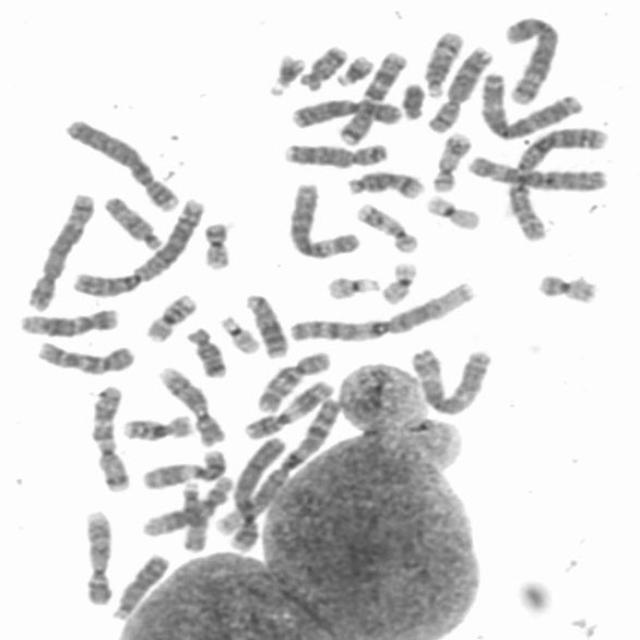A1: (221, 392, 345, 549), (285, 279, 477, 345)
A2: (66, 193, 206, 298), (504, 122, 610, 242)
A3: (474, 69, 585, 141), (407, 343, 494, 416)
B4: (58, 113, 183, 214), (220, 432, 288, 548)
B5: (24, 188, 96, 312), (502, 12, 560, 106)
C10: (252, 347, 332, 415), (31, 337, 138, 377)
C11: (242, 378, 336, 440), (137, 444, 228, 489)
C12: (136, 472, 236, 538), (13, 304, 122, 338)
C6: (284, 179, 361, 258), (463, 152, 611, 193)
C7: (334, 47, 410, 146), (86, 382, 131, 493)
C8: (422, 40, 494, 134), (280, 138, 391, 168)
C9: (154, 362, 227, 446), (78, 506, 115, 607)
D13: (108, 551, 170, 622), (240, 289, 290, 359)
D14: (420, 27, 466, 99), (342, 167, 426, 201)
D15: (99, 190, 166, 252), (177, 477, 207, 553)
E16: (140, 289, 198, 343), (119, 411, 196, 442)
E17: (352, 199, 421, 254), (429, 129, 473, 193)
E18: (295, 40, 349, 91), (182, 325, 230, 379)
F19: (421, 191, 484, 232), (377, 258, 419, 306)
F20: (533, 270, 602, 306), (198, 217, 234, 270)
G21: (263, 50, 307, 98), (332, 50, 376, 89)
G22: (216, 311, 262, 355), (322, 272, 381, 301)
X: (286, 94, 404, 130)
Y: (397, 79, 426, 121)
